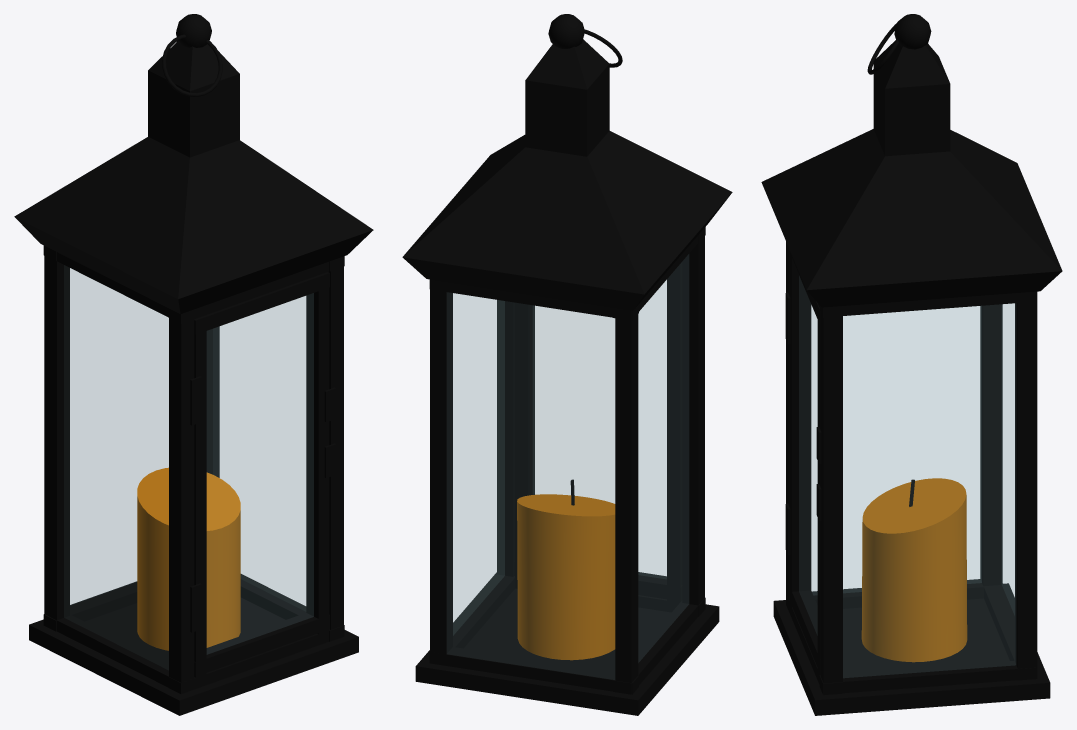
Rendered from Lantern.obj.
3 views of the same model, side by side, from view 1: azimuth 30°, elevation 25°; view 2: azimuth 150°, elevation 25°; view 3: azimuth 270°, elevation 25° (orthographic).
Parts seen in each view (by area): view 1: Box029, Plane009, Plane006, Cylinder002, Box045, Box036, Box031, Box043, Box037, Box040, Box044, Box030 (+9 smaller); view 2: Plane008, Box029, Plane009, Cylinder002, Box045, Box036, Box032, Box031, Box040, Box037, Box043, Box033 (+7 smaller); view 3: Plane007, Box029, Cylinder002, Box045, Box032, Box037, Box040, Box036, Plane006, Box035, Box039, Box033 (+6 smaller).
Boxes of the visible parts, bbox=[...] form: Box029: bbox=[14, 41, 373, 314]; Plane009: bbox=[64, 266, 168, 669]; Plane006: bbox=[207, 293, 313, 653]; Cylinder002: bbox=[137, 467, 240, 650]; Box045: bbox=[29, 597, 358, 715]; Box036: bbox=[44, 252, 69, 630]; Box031: bbox=[169, 318, 194, 682]; Box043: bbox=[306, 287, 329, 641]; Box037: bbox=[328, 266, 343, 629]; Box040: bbox=[194, 319, 206, 686]; Box044: bbox=[194, 613, 329, 676]; Box030: bbox=[57, 614, 195, 693]; Plane008: bbox=[447, 293, 614, 679]; Box029: bbox=[402, 39, 732, 310]; Plane009: bbox=[639, 255, 688, 660]; Cylinder002: bbox=[517, 494, 615, 660]; Box045: bbox=[415, 572, 719, 715]; Box036: bbox=[615, 314, 638, 682]; Box032: bbox=[430, 289, 452, 654]; Box031: bbox=[682, 236, 704, 605]; Box040: bbox=[667, 262, 682, 609]; Box037: bbox=[497, 300, 514, 576]; Box043: bbox=[515, 302, 534, 586]; Box033: bbox=[429, 647, 638, 694]; Plane007: bbox=[843, 304, 1015, 677]; Box029: bbox=[761, 40, 1062, 307]; Cylinder002: bbox=[861, 478, 967, 662]; Box045: bbox=[773, 583, 1050, 715]; Box032: bbox=[1015, 302, 1037, 668]; Box037: bbox=[820, 312, 842, 683]; Box040: bbox=[789, 249, 811, 615]; Box036: bbox=[980, 304, 1002, 586]; Plane006: bbox=[799, 277, 816, 632]; Box035: bbox=[819, 660, 1017, 694]; Box039: bbox=[819, 293, 1017, 317]; Box033: bbox=[984, 585, 1037, 680].
Size of the model in its own units: 567669 by 1335226 by 567669.
